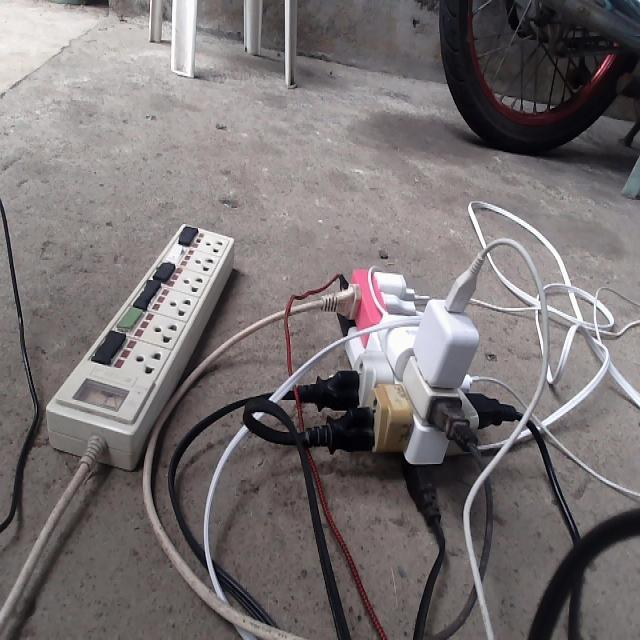-: (298, 249, 517, 531)
